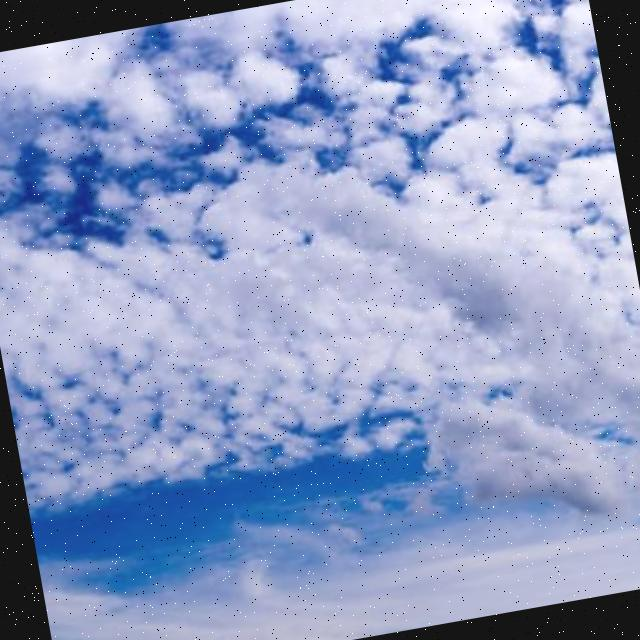Cc: (1, 1, 640, 602)
